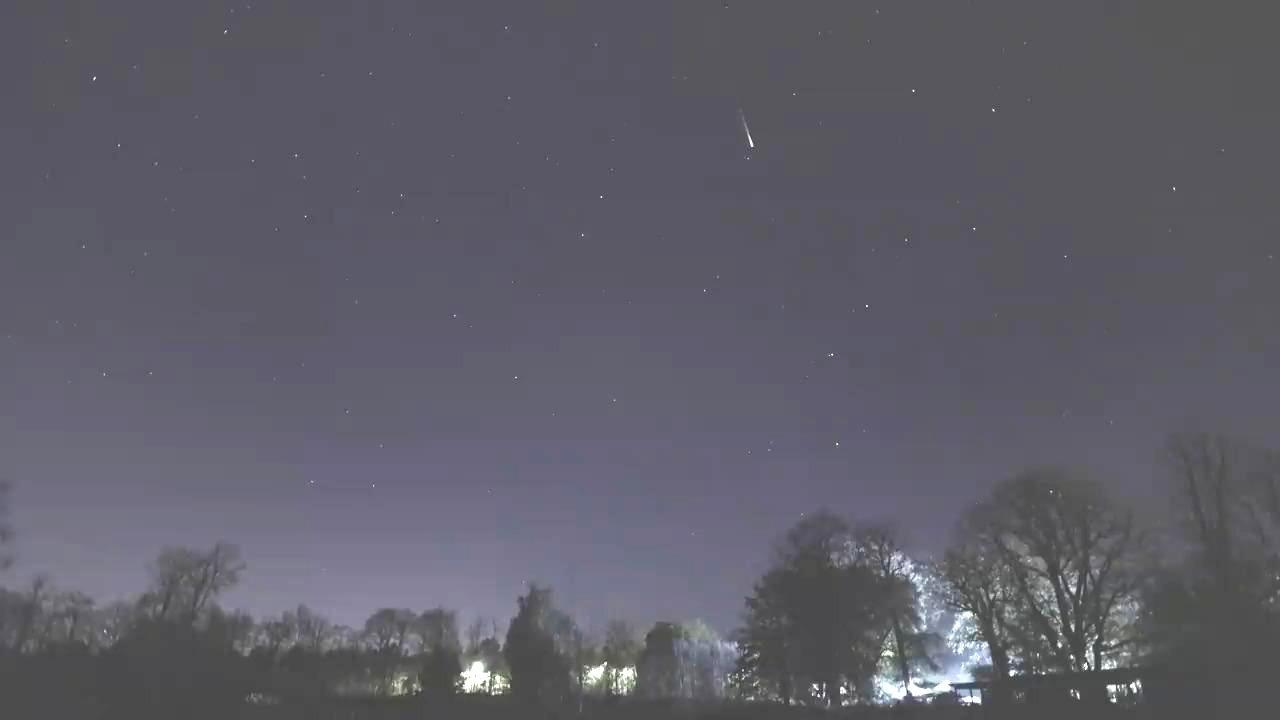meteorite: (689, 111, 803, 154)
